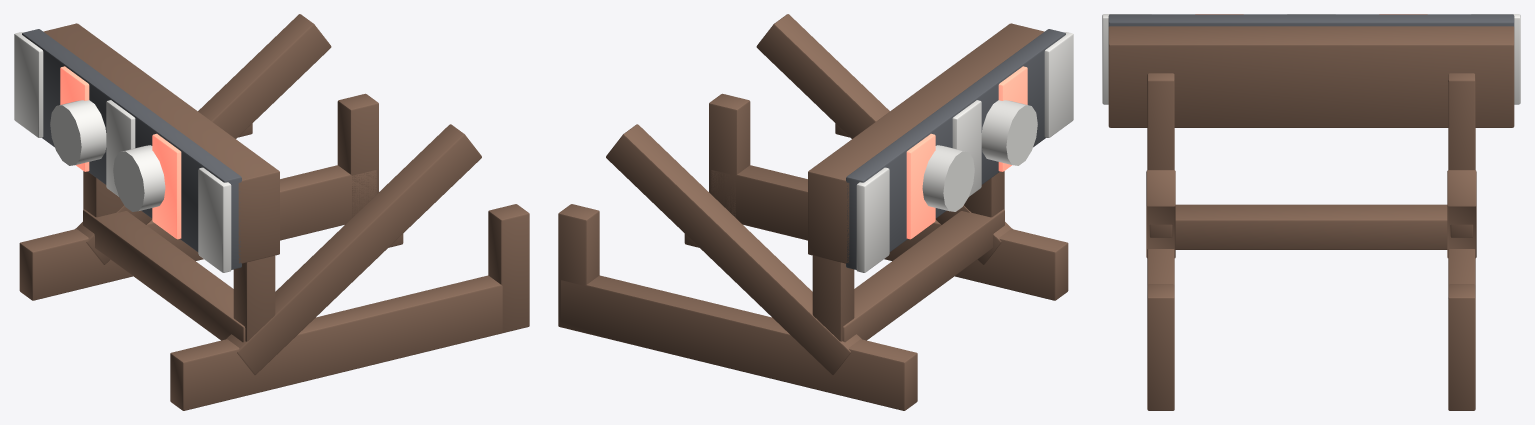
Rendered from th41_prellbock.glb.
3 renders of one model, left to right at view 1: azimuth 30°, elevation 25°; view 2: azimuth 150°, elevation 25°; view 3: azimuth 270°, elevation 25°, orthographic.
Visible parts, largest first — view 1: Cube, Cube.001, Cube.005, Cube.010, Cube.011, Cube.017, Cube.006, Cube.002, Cube.007, Cube.012, Cylinder.001, Cube.003 (+6 smaller); view 2: Cube.005, Cube.006, Cube, Cube.010, Cube.011, Cube.017, Cube.001, Cube.002, Cube.007, Cube.016, Cylinder, Cube.008 (+6 smaller); view 3: Cube.010, Cube.017, Cube.011, Cube.002, Cube.007, Cube.003, Cube.008, Cube.001, Cube.006, Cube, Cube.005, Cube.012 (+1 smaller).
Boxes of the visible parts, x1,y1,x2,y2 form: Cube: [170, 275, 526, 410]; Cube.001: [226, 124, 481, 374]; Cube.005: [19, 165, 376, 300]; Cube.010: [43, 23, 279, 263]; Cube.011: [22, 29, 241, 269]; Cube.017: [83, 209, 245, 342]; Cube.006: [75, 14, 331, 264]; Cube.002: [488, 204, 529, 332]; Cube.007: [337, 93, 378, 217]; Cube.012: [198, 167, 231, 272]; Cylinder.001: [50, 100, 106, 165]; Cube.003: [233, 255, 275, 341]; Cube.005: [561, 275, 917, 410]; Cube.006: [606, 124, 861, 374]; Cube: [711, 165, 1068, 300]; Cube.010: [808, 23, 1044, 263]; Cube.011: [846, 29, 1065, 269]; Cube.017: [842, 209, 1004, 342]; Cube.001: [756, 14, 1012, 264]; Cube.002: [709, 93, 750, 217]; Cube.007: [558, 204, 599, 327]; Cube.016: [856, 167, 889, 272]; Cylinder: [981, 100, 1037, 165]; Cube.008: [812, 255, 854, 341]; Cube.010: [1108, 26, 1514, 127]; Cube.017: [1175, 204, 1447, 249]; Cube.011: [1108, 14, 1514, 26]; Cube.002: [1147, 284, 1174, 410]; Cube.007: [1448, 284, 1475, 410]; Cube.003: [1147, 73, 1174, 170]; Cube.008: [1448, 73, 1475, 170]; Cube.001: [1146, 170, 1175, 257]; Cube.006: [1447, 170, 1476, 257]; Cube: [1147, 249, 1174, 285]; Cube.005: [1448, 249, 1475, 285]; Cube.012: [1102, 14, 1151, 104].
Bounding box in the file's own units: 1.93 × 1.26 × 1.99.
